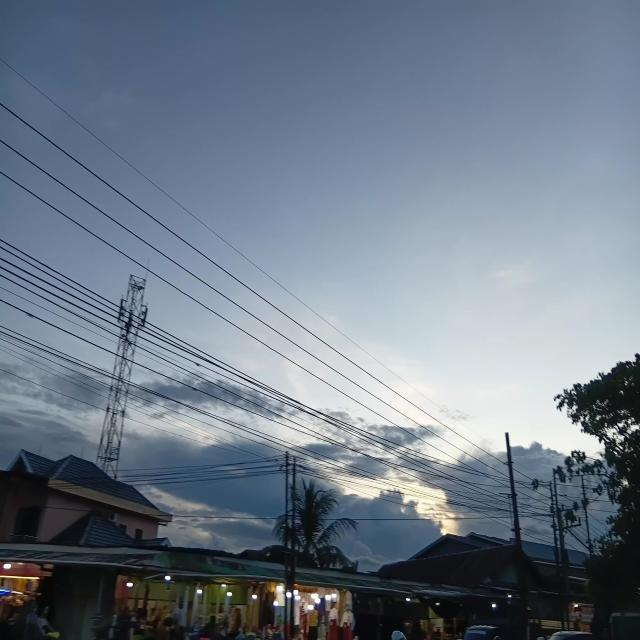cumulus: (11, 341, 563, 538)
